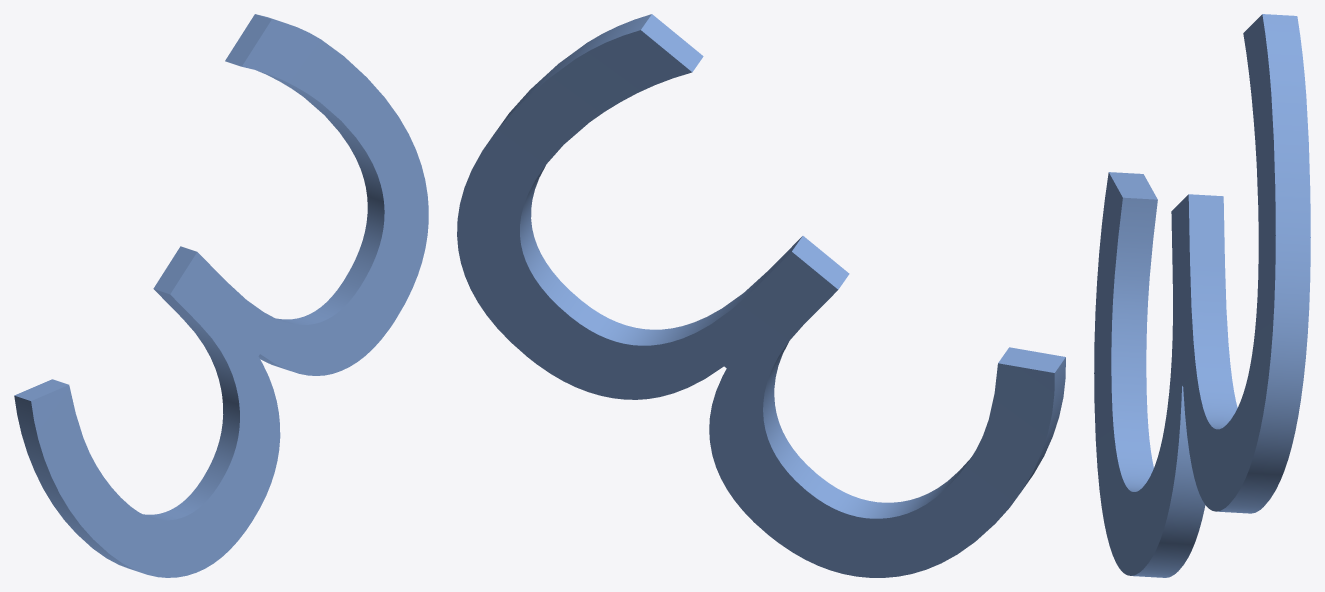
The model's file is New_Number_3.gltf.
3 renders of one model, left to right at view 1: azimuth 30°, elevation 25°; view 2: azimuth 150°, elevation 25°; view 3: azimuth 270°, elevation 25°, orthographic. The views are drawn at different scales.
Parts seen in each view (by area): view 1: Part 417; view 2: Part 417; view 3: Part 417.
Part boxes in pixels (box(x1,y1,x2,y2)): Part 417: box(14, 14, 428, 577); Part 417: box(457, 14, 1065, 577); Part 417: box(1094, 14, 1310, 577).
Bounding box in the file's own units: 0.00498 × 0.00501 × 0.00154.
